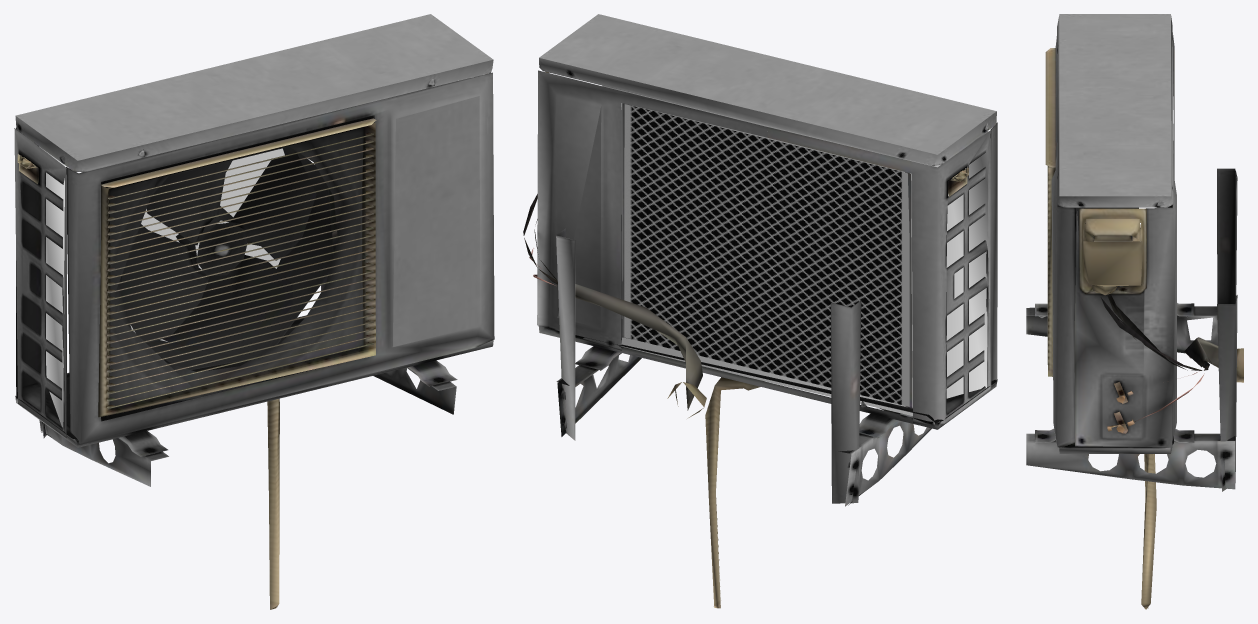
The model's file is aircon_unit.glb.
3 renders of one model, left to right at view 1: azimuth 30°, elevation 25°; view 2: azimuth 150°, elevation 25°; view 3: azimuth 270°, elevation 25°, orthographic. The views are drawn at different scales.
Parts seen in each view (by area): view 1: aircon_unit; view 2: aircon_unit; view 3: aircon_unit.
Boxes of the visible parts, box(x1,y1,x2,y2) form: aircon_unit: box(14, 14, 494, 609); aircon_unit: box(523, 14, 997, 608); aircon_unit: box(1026, 14, 1243, 609).
Size of the model in its own units: 0.0399 by 0.0463 by 0.0187.
2 materials, 2 textured.
